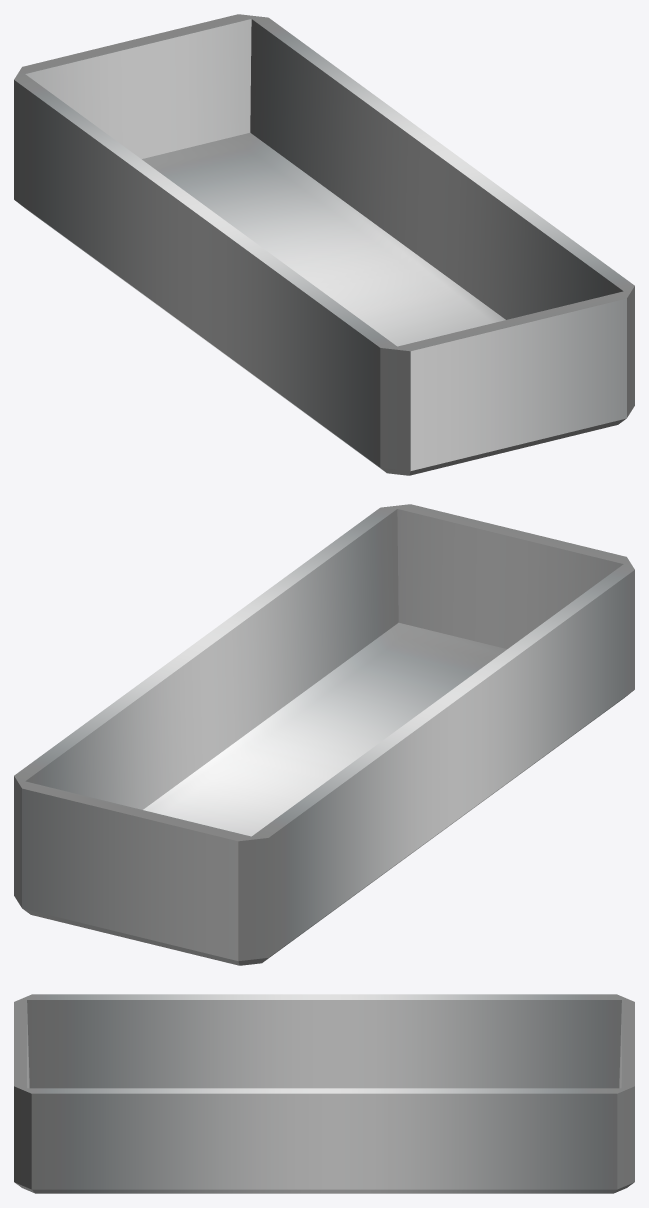
Rendered from Bread Pan B.FBX.
3 views of the same model, one above another, from view 1: azimuth 30°, elevation 25°; view 2: azimuth 150°, elevation 25°; view 3: azimuth 270°, elevation 25° (orthographic). The views are drawn at different scales.
Visible parts, largest first — view 1: Bread Pan; view 2: Bread Pan; view 3: Bread Pan.
Part boxes in pixels (x1=…): Bread Pan: x1=14, y1=14, x2=634, y2=475; Bread Pan: x1=14, y1=504, x2=634, y2=965; Bread Pan: x1=14, y1=994, x2=634, y2=1193.
Size of the model in its own units: 77.58 by 37.59 by 205.
